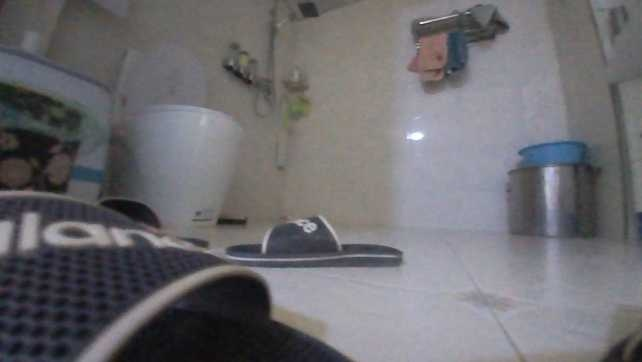slipper: (0, 189, 354, 360), (225, 214, 405, 269)
toilet: (108, 40, 243, 233)
